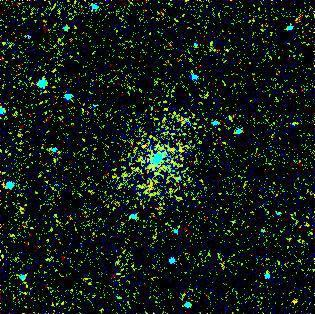star: (277, 283, 307, 313)
